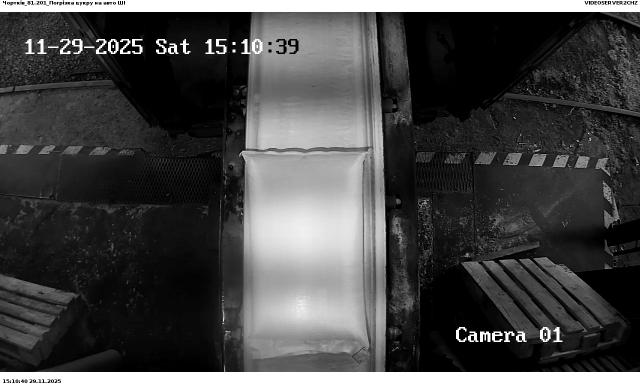bag: (241, 150, 372, 363)
